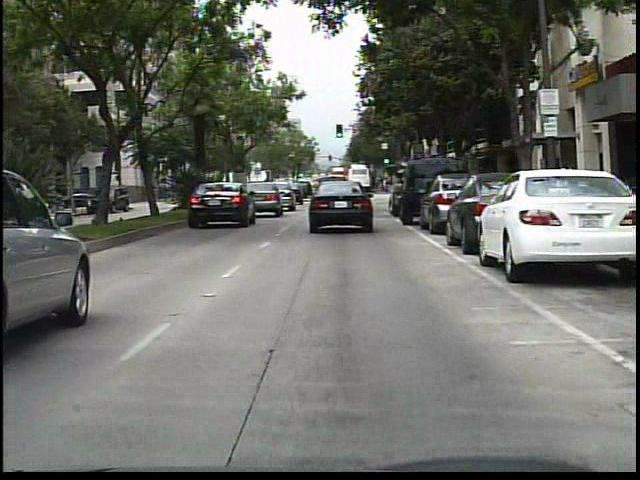person: (554, 156, 577, 216)
